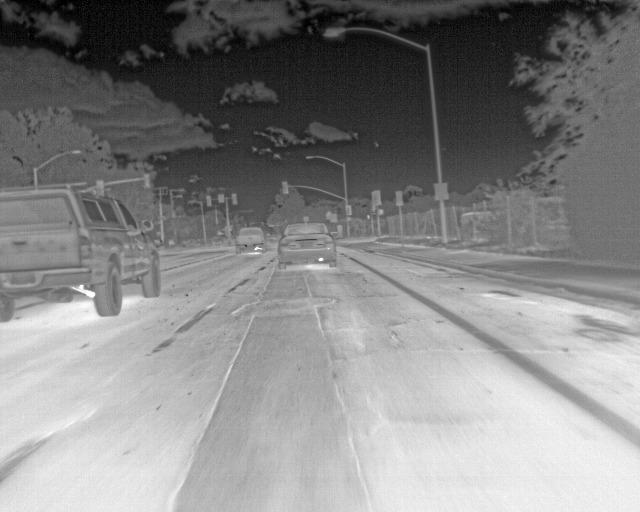car: (0, 182, 161, 322), (278, 223, 338, 270), (235, 227, 271, 254)
light: (96, 181, 104, 197), (144, 174, 151, 189), (396, 191, 402, 206), (282, 182, 288, 194), (374, 191, 379, 204), (206, 196, 211, 207), (232, 194, 237, 205), (346, 206, 351, 215), (379, 209, 383, 215)
sign: (435, 183, 448, 200), (330, 214, 337, 223), (218, 194, 224, 203), (303, 217, 309, 222)
